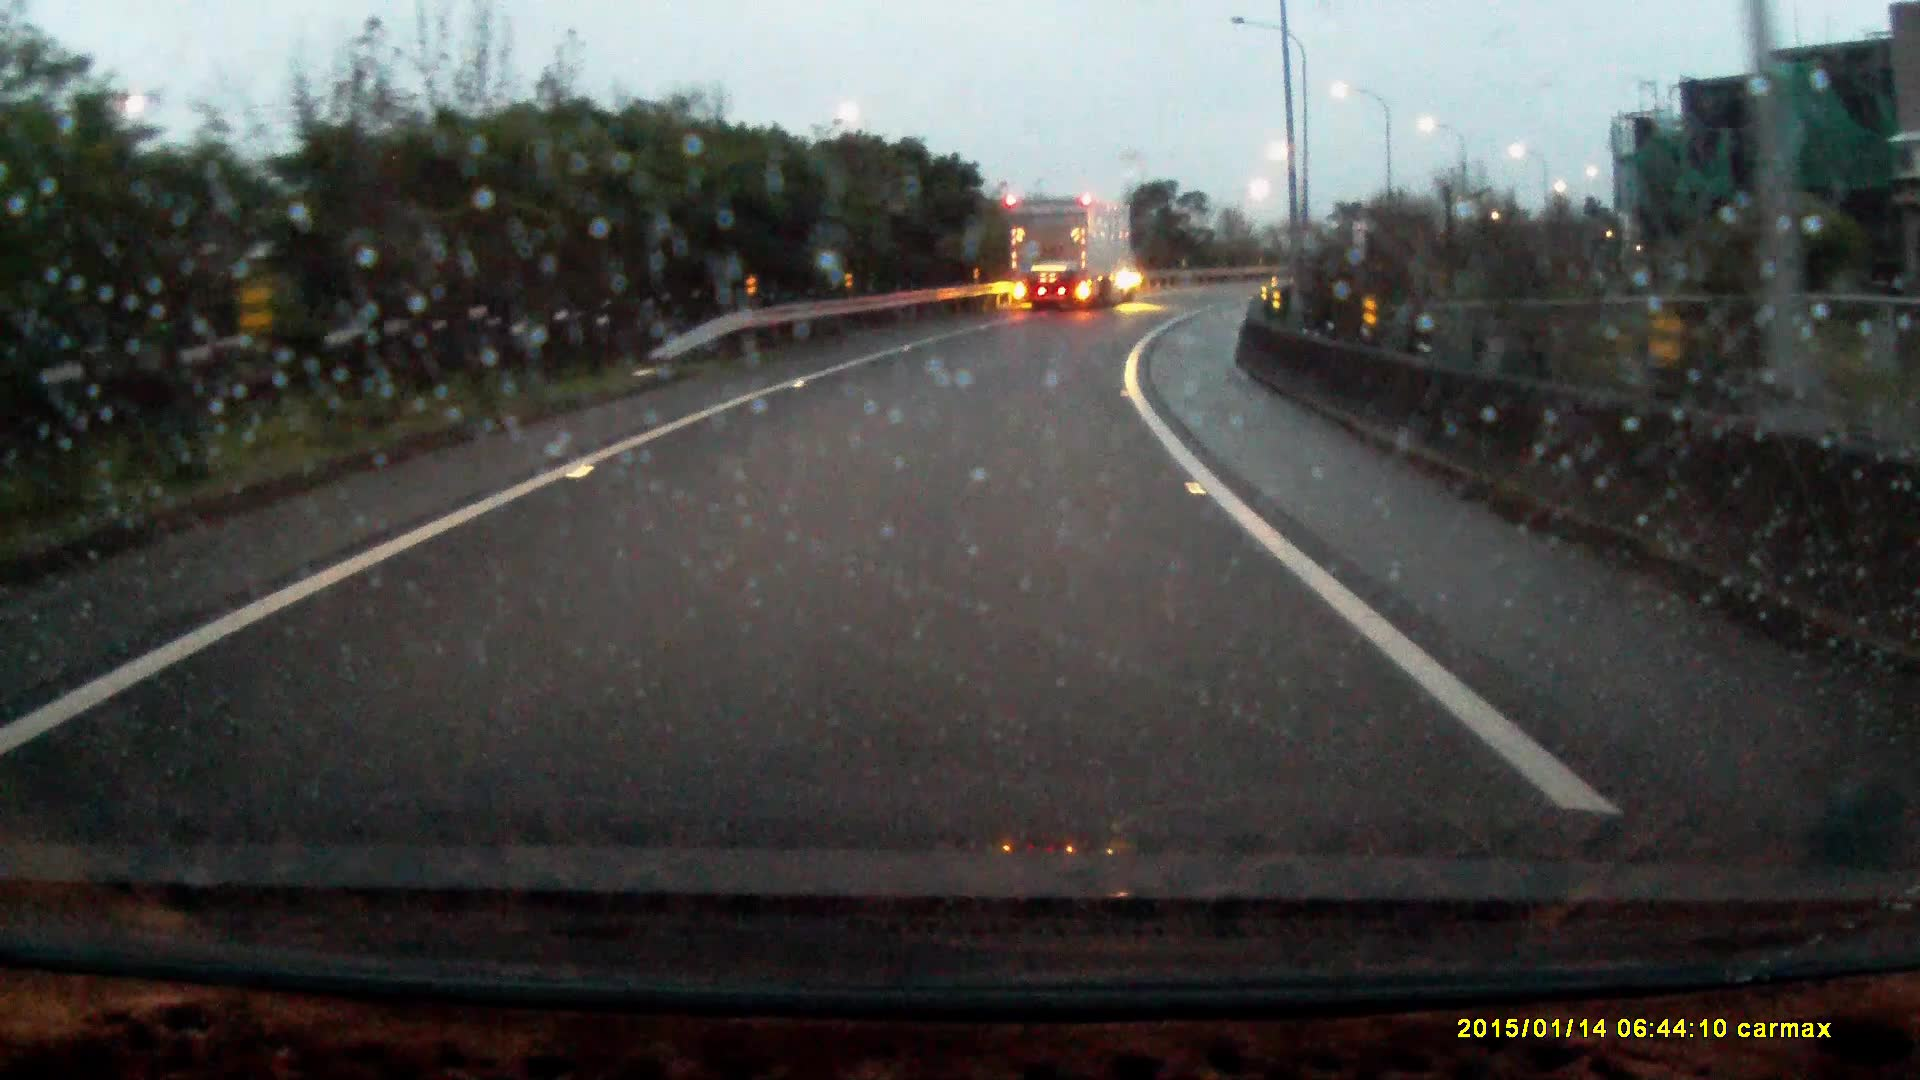vehicle: (1009, 190, 1145, 306)
